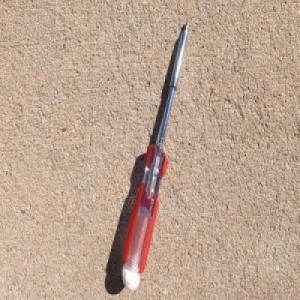Screwdriver: (120, 15, 190, 293)
